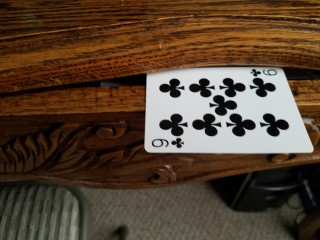NineOfClubs: (144, 66, 314, 153)
